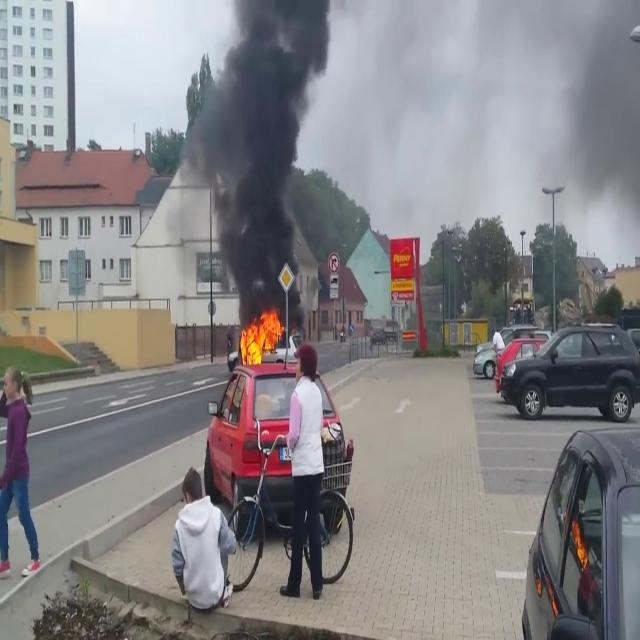Fire: (238, 304, 285, 368), (571, 514, 589, 575)
Smoke: (187, 0, 335, 302), (573, 0, 640, 334)
